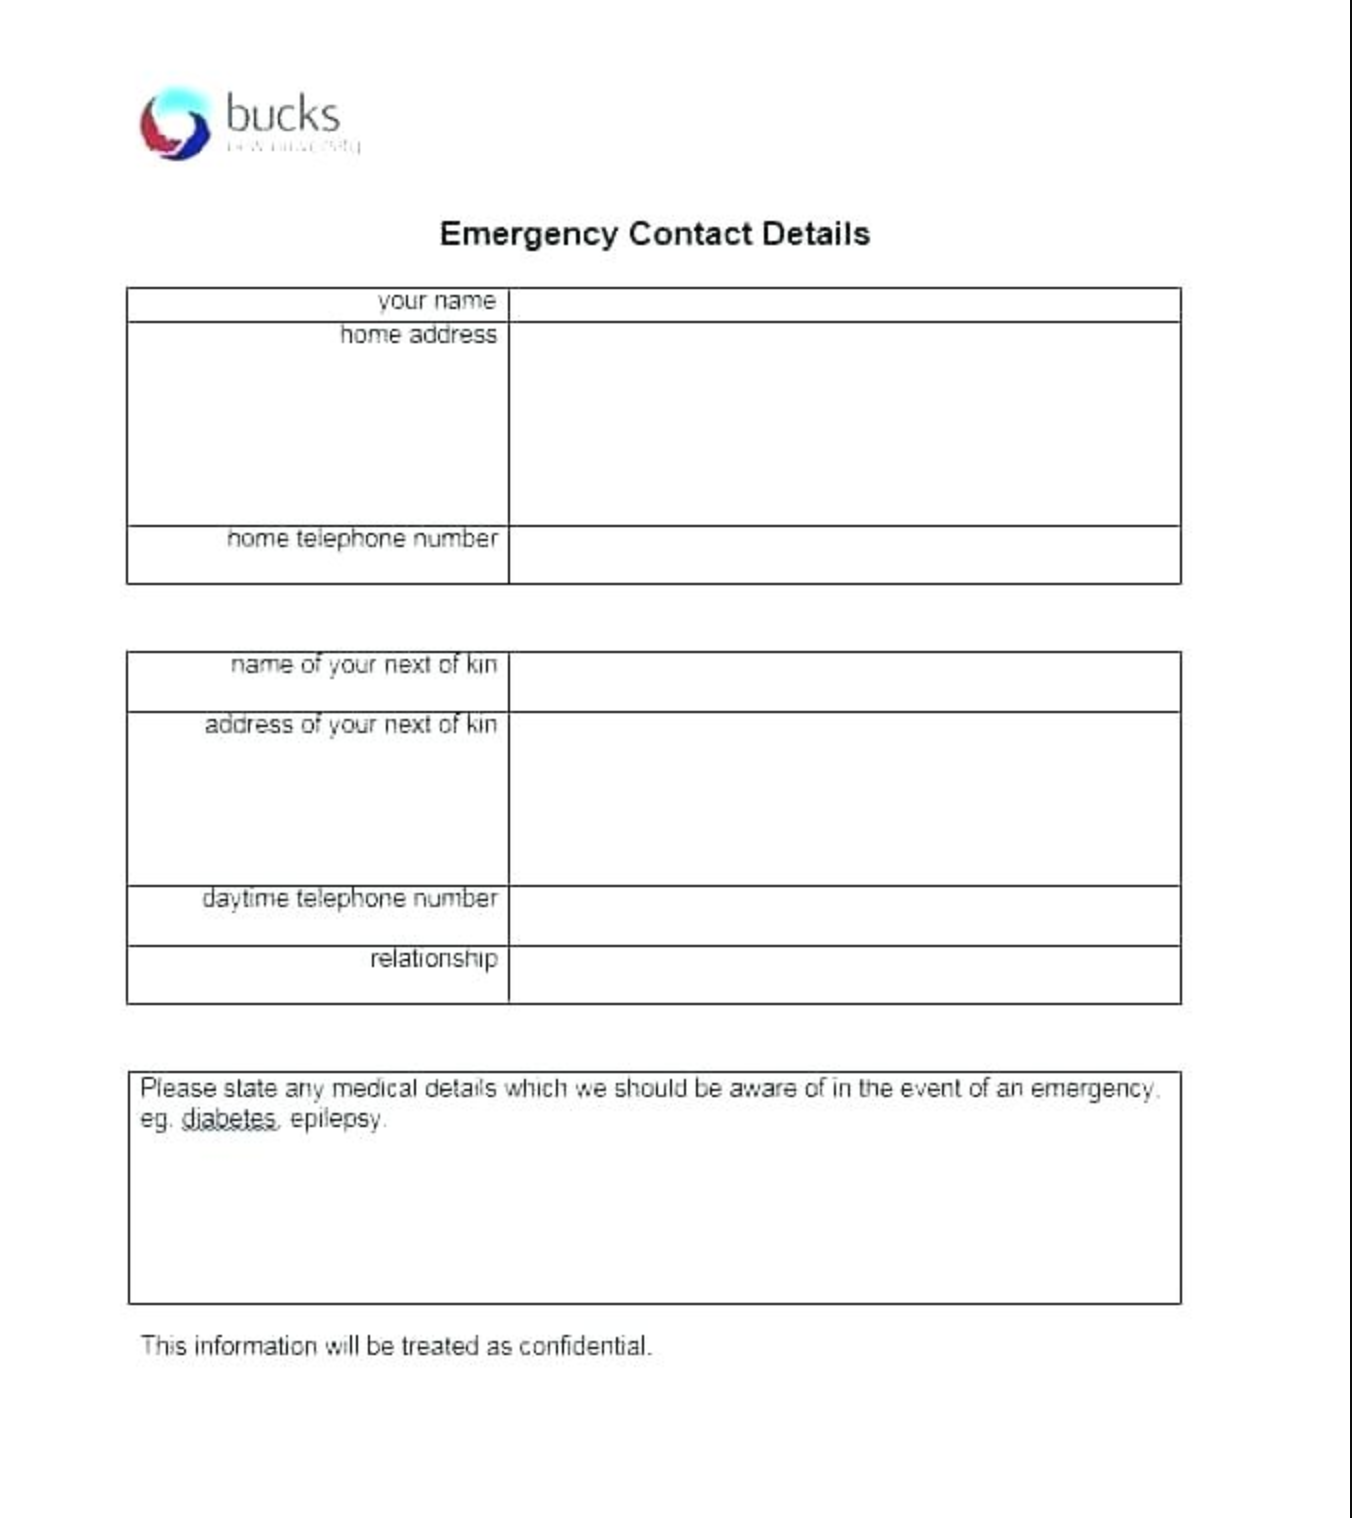textbox: (121, 1065, 1190, 1314), (501, 317, 1191, 536), (501, 704, 1188, 902), (504, 875, 1191, 959), (505, 642, 1190, 724), (501, 935, 1190, 1013), (505, 514, 1188, 593), (501, 278, 1188, 328)
